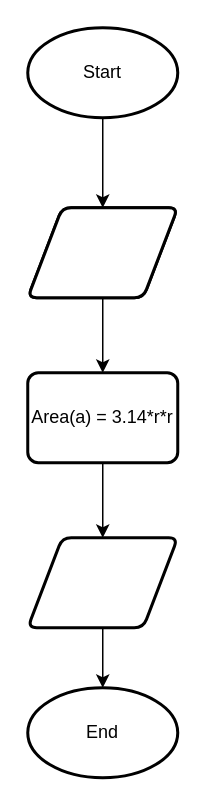
This 204x804 diagram has some shape labels left out. The centre of each missing label's shape, as x and y in pixels:
"input reduis r" belongs at point 102,252.
"print Area a" belongs at point 102,582.
